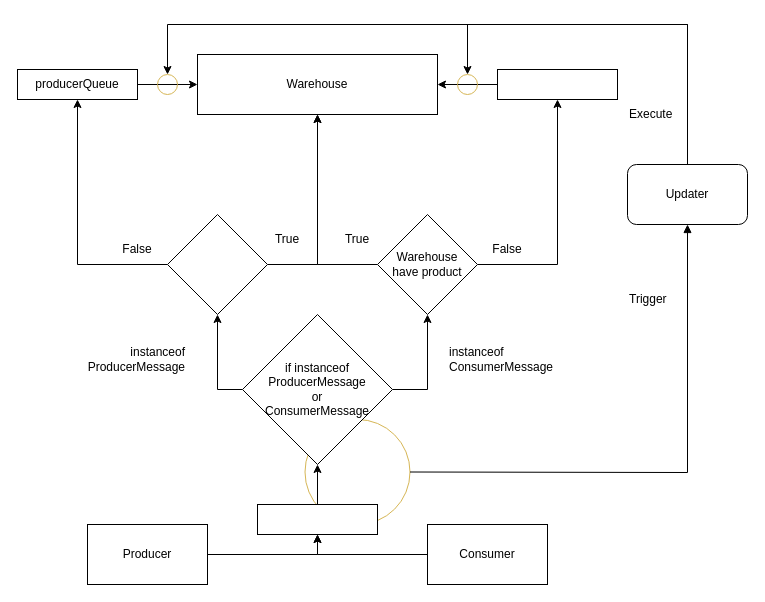
This 765x602 diagram has some shape labels left out. The centre of each missing label's shape, as x and y in pixels:
"consumerQueue" goes at point 557,84.
"new receivedObject" goes at point 317,519.
"Warehouse is not full" goes at point 217,264.
